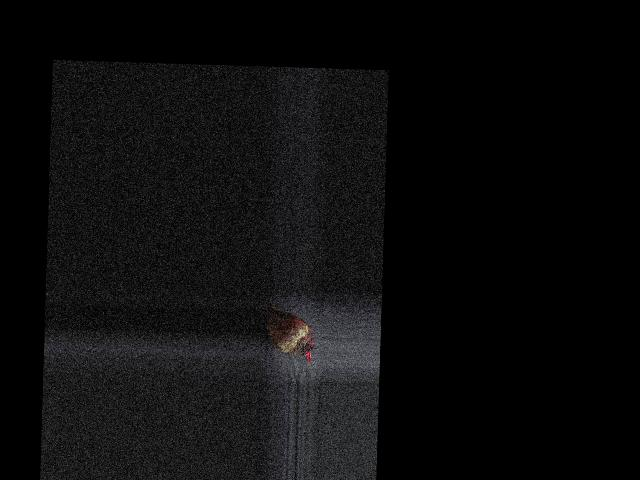beet: (265, 302, 318, 363)
